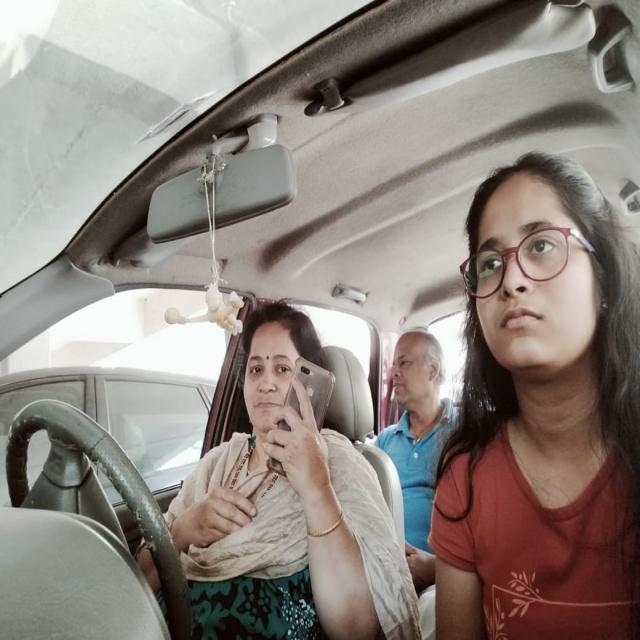mobile: (268, 351, 338, 479)
person: (468, 144, 615, 417), (240, 304, 331, 474), (386, 318, 448, 424)
